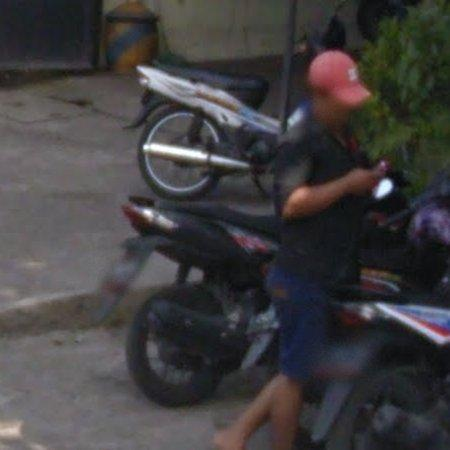motorcycles: (116, 198, 450, 411)
